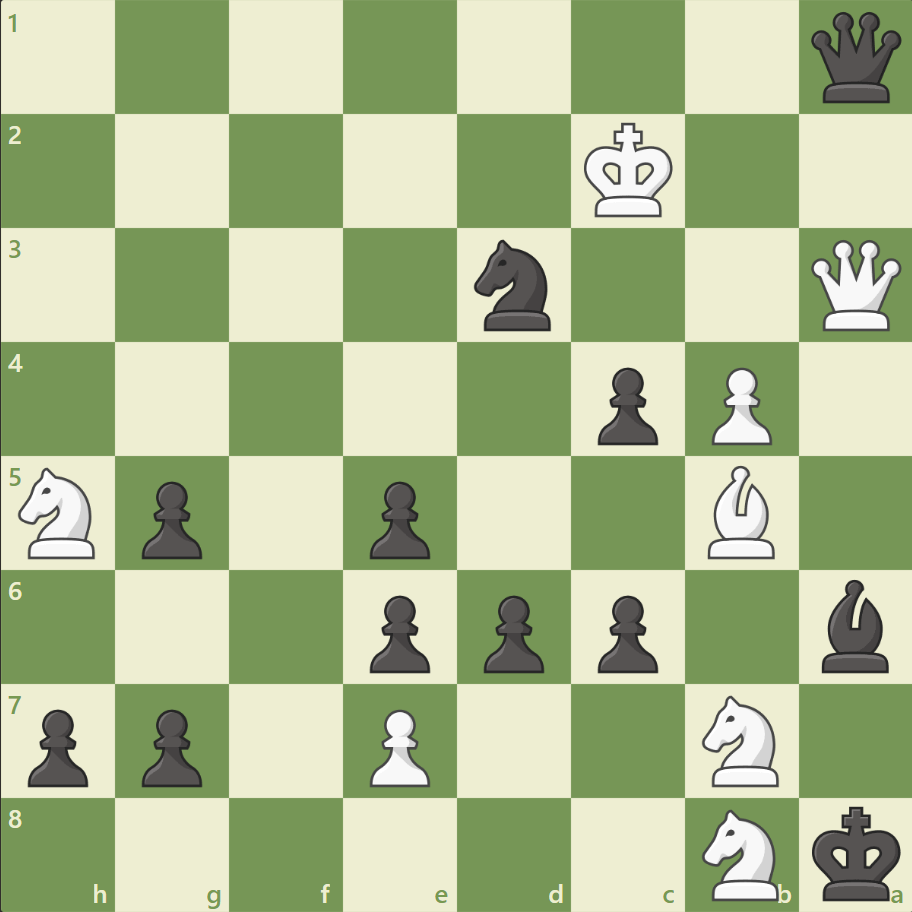B: (698, 460, 782, 563)
K: (579, 117, 679, 225)
N: (692, 688, 789, 791), (11, 461, 108, 564), (692, 802, 789, 904)
P: (701, 359, 776, 450), (361, 700, 435, 791)
Q: (805, 236, 904, 335)
b: (812, 574, 896, 676)
k: (806, 798, 906, 906)
n: (465, 234, 562, 337)
p: (133, 700, 208, 791), (20, 700, 95, 791), (474, 586, 549, 677), (133, 473, 208, 564), (588, 586, 662, 677), (361, 586, 435, 677), (361, 473, 435, 564), (588, 359, 662, 450)
q: (805, 9, 904, 108)
